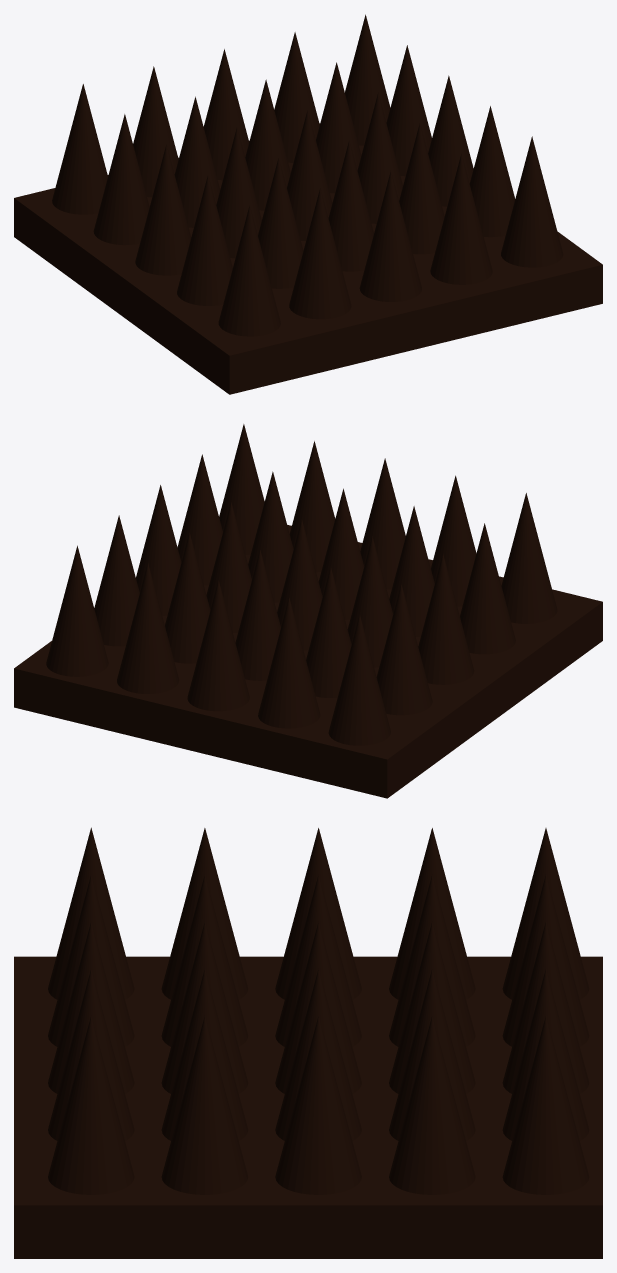
File: Spike_7.fbx
3 views of the same model, one above another, from view 1: azimuth 30°, elevation 25°; view 2: azimuth 150°, elevation 25°; view 3: azimuth 270°, elevation 25° (orthographic). The views are drawn at different scales.
Parts seen in each view (by area): view 1: Spike7, Base7; view 2: Spike7, Base7; view 3: Spike7, Base7.
Boxes of the visible parts, box(x1,y1,x2,y2) form: Spike7: box(52, 14, 563, 336); Base7: box(14, 123, 602, 394); Spike7: box(46, 424, 557, 745); Base7: box(14, 525, 602, 798); Spike7: box(48, 827, 589, 1194); Base7: box(14, 956, 602, 1258).
Size of the model in its own units: 200 by 80.59 by 200.
